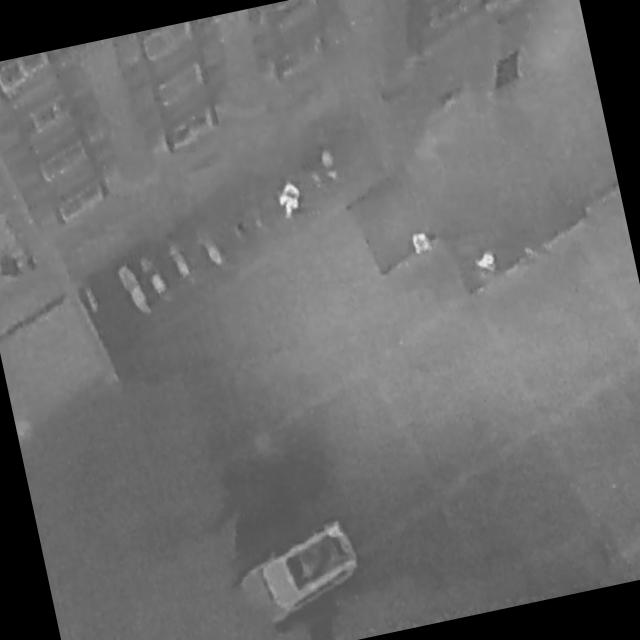person: (271, 178, 309, 227), (473, 249, 500, 277), (411, 230, 434, 258)
